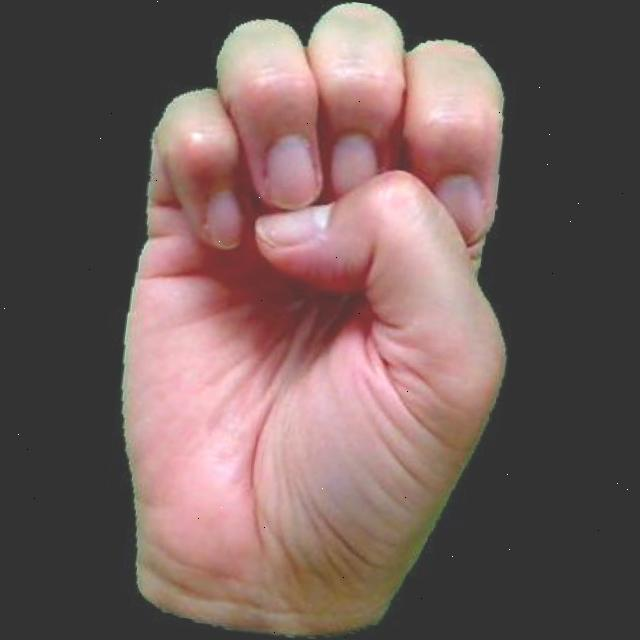e: (67, 0, 548, 640)
